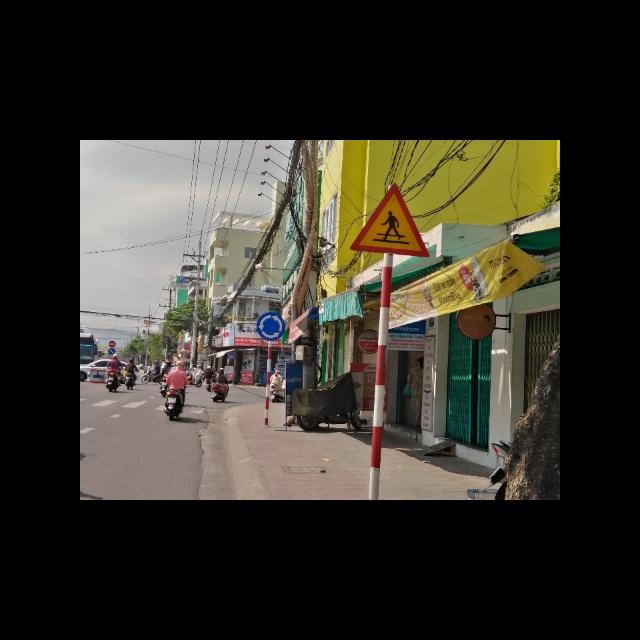Nơi giao nhau chạy theo vòng xuyến: (256, 312, 284, 339)
Đường người đi bộ sang đường: (348, 181, 431, 258)
